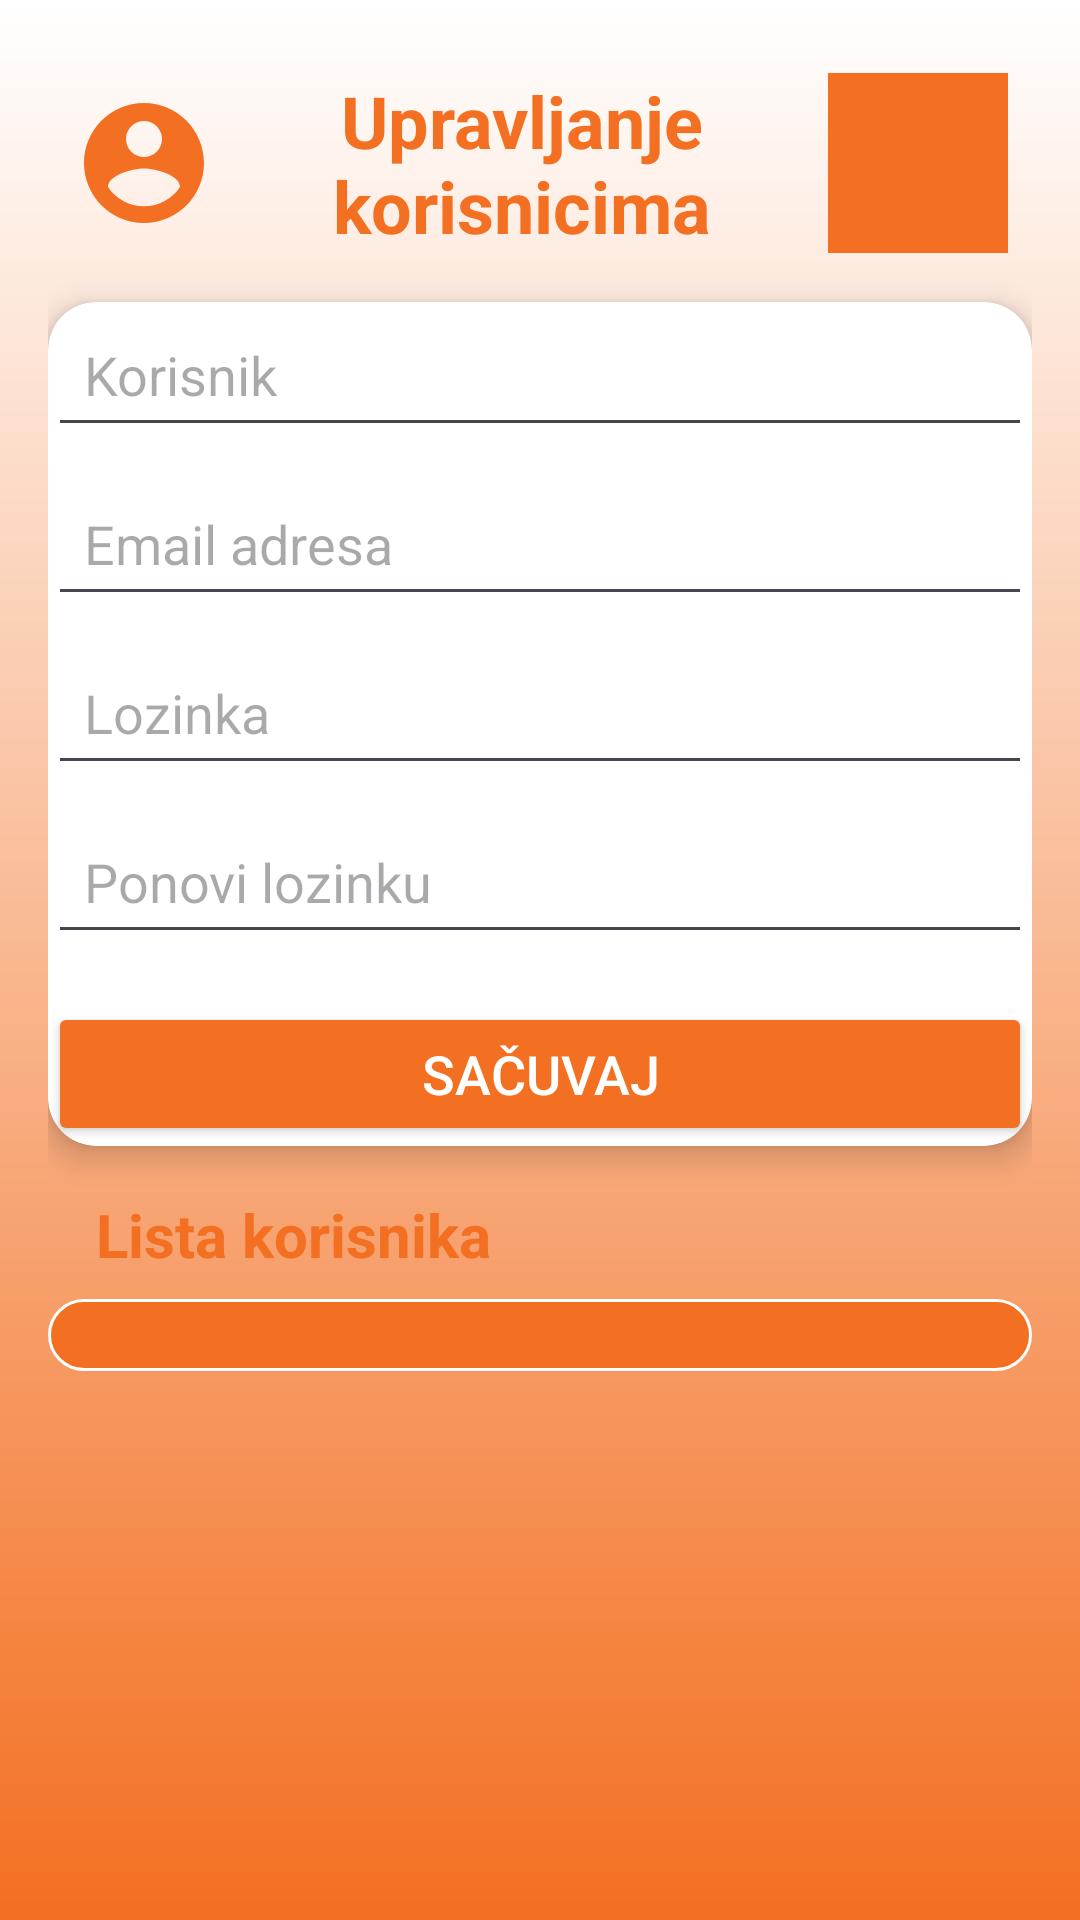

Named icons in this screenshot (1080 x 1920) and their bounding boxes, (x1, y1, x2, y2):
account circle: (84, 103, 204, 223)
